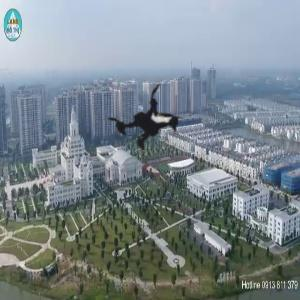drone: (78, 59, 219, 200)
